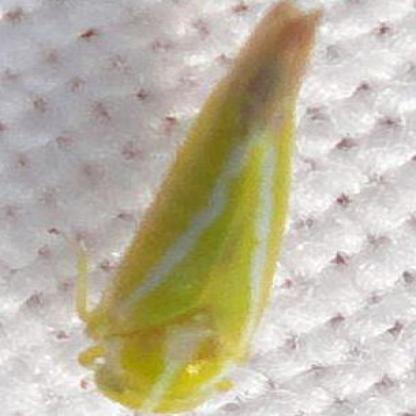green-leafhopper: (72, 5, 336, 413)
